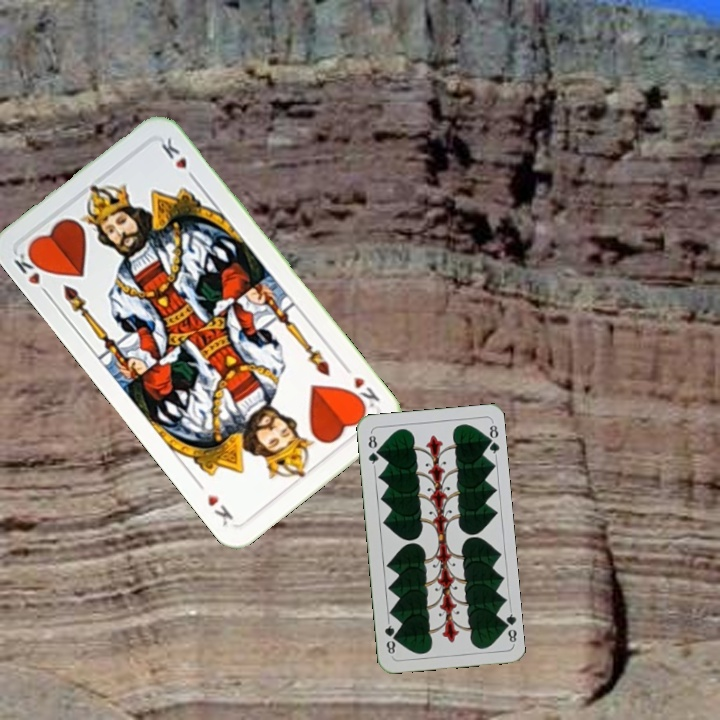G8: (498, 606, 519, 646), (364, 431, 382, 470)
HK: (9, 243, 53, 300), (345, 372, 383, 414)
